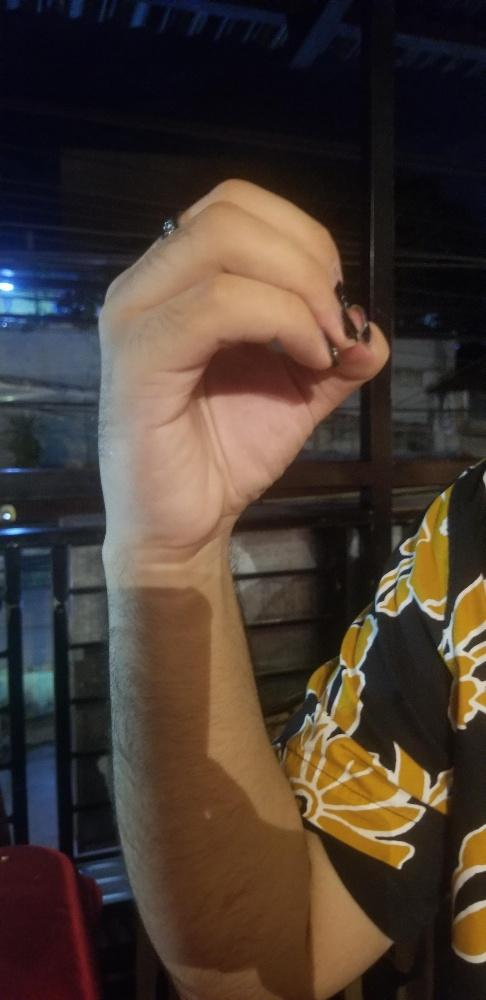o: (91, 175, 394, 535)
